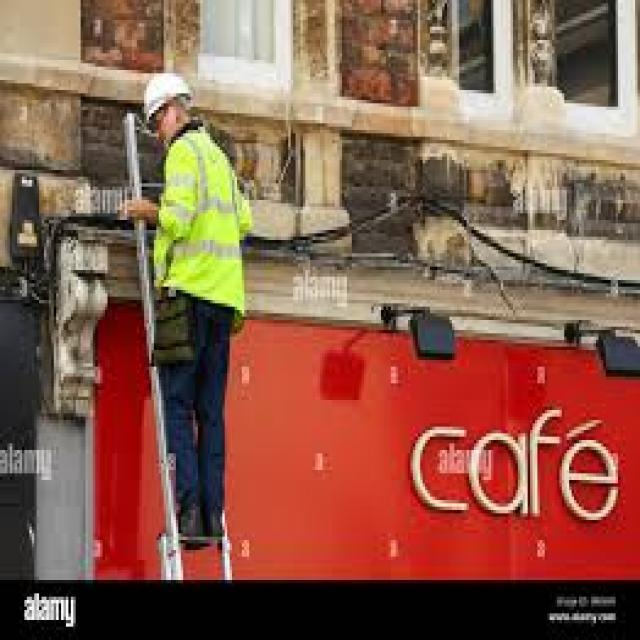reflective_jacket: (144, 130, 259, 326)
safety_helmet: (134, 60, 200, 126)
